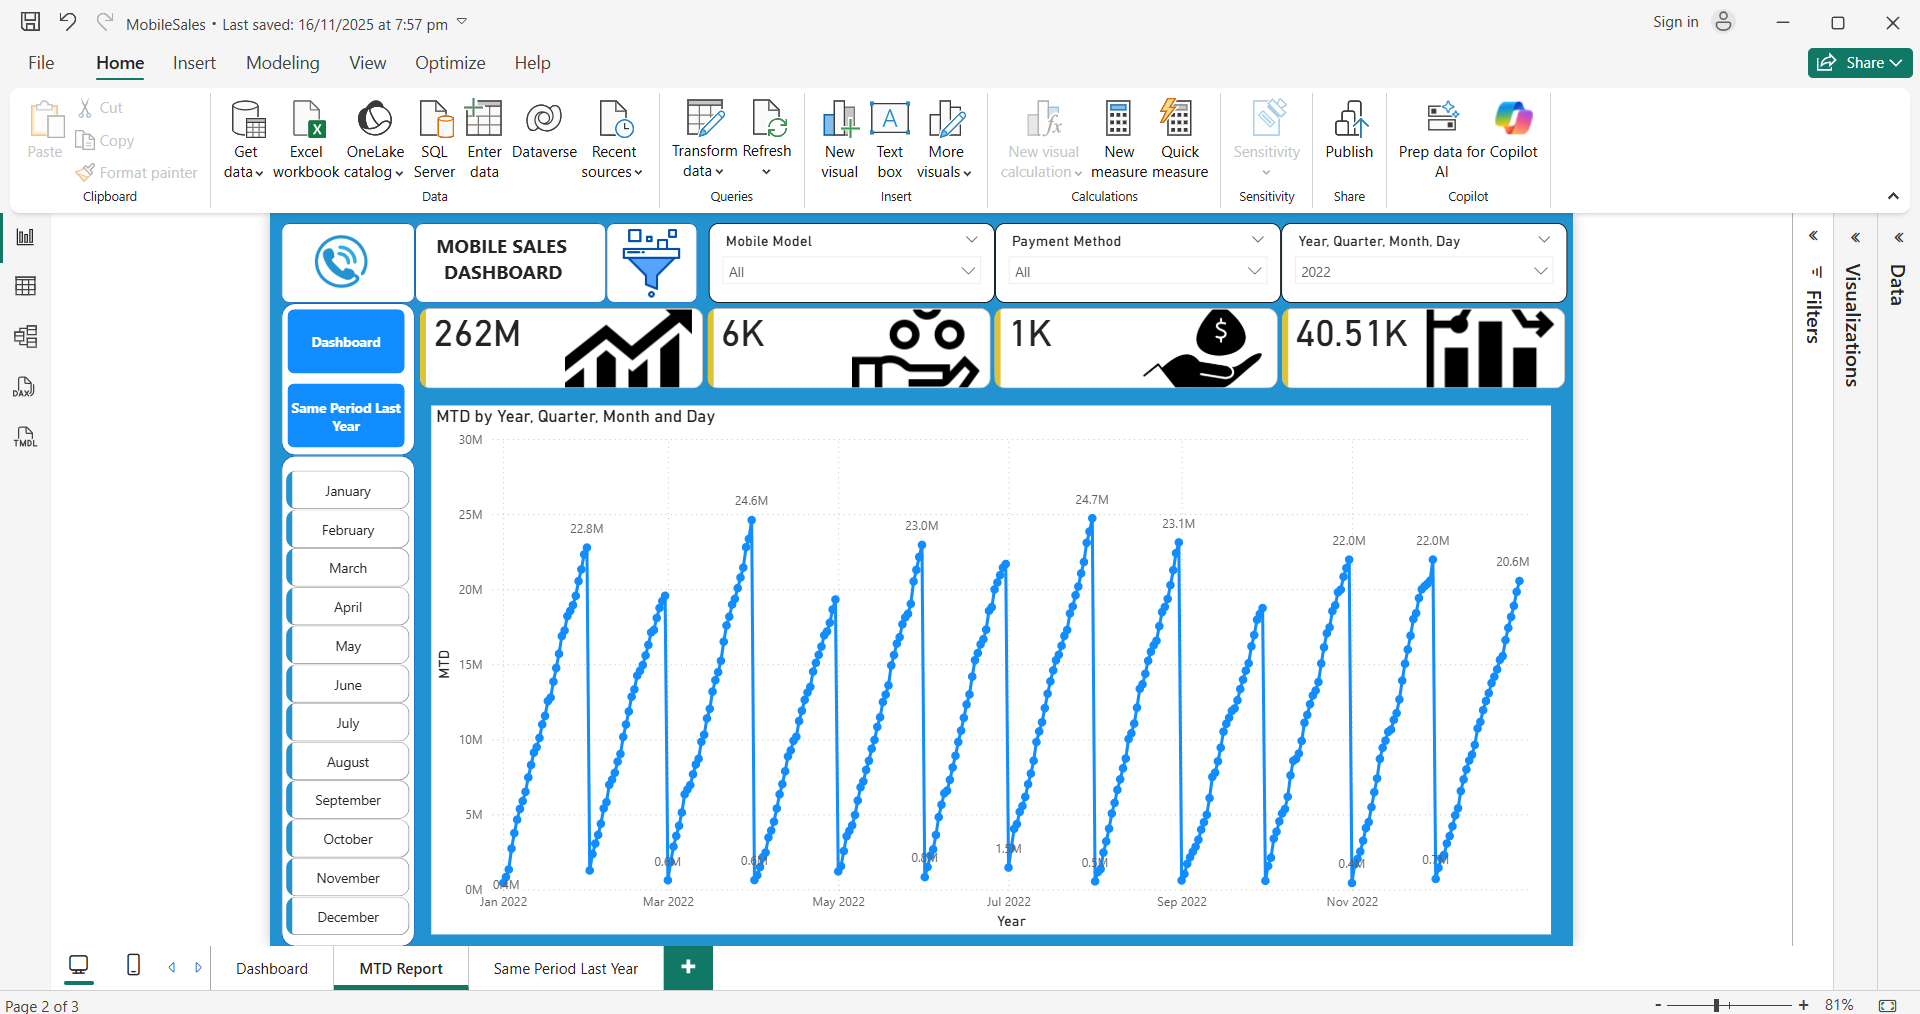

What the dashboard file says about the page in this screenshot:
{"tool":"powerbi","page":{"name":"MTD Report","canvas":[1280,720],"ordinal":1},"visuals":[{"type":"shape","box":[11,238,131.3,482.2],"z":0},{"type":"shape","box":[11,9.8,131.3,78.5],"z":1000},{"type":"image","box":[17.2,14.7,105.5,67.5],"z":2000},{"type":"shape","box":[11,88.3,131.3,149.7],"z":3000},{"type":"cardVisual","fields":{"Data":["Mobile_Sales_Data.Total_Sales","Mobile_Sales_Data.Total_Quantity","Mobile_Sales_Data.Transactions","Mobile_Sales_Data.Average_Price"]},"box":[142.3,88.3,1137.4,89.6],"z":4000},{"type":"slicer","fields":{"Values":["Mobile_Sales_Data.Mobile Model"]},"box":[430.7,9.8,281,78.5],"z":5000},{"type":"slicer","fields":{"Values":["Mobile_Sales_Data.Payment Method"]},"box":[711.7,9.8,281,78.5],"z":6000},{"type":"slicer","fields":{"Values":["Custom_Calender.Date.Variation.Date Hierarchy.Year","Custom_Calender.Date.Variation.Date Hierarchy.Quarter","Custom_Calender.Date.Variation.Date Hierarchy.Month","Custom_Calender.Date.Variation.Date Hierarchy.Day"]},"box":[992.6,9.8,281,78.5],"z":7000},{"type":"shape","box":[330.1,9.8,89.6,78.5],"z":8000},{"type":"image","box":[330.1,9.8,88.3,79.8],"z":9000},{"type":"shape","box":[142.3,9.8,187.7,78.5],"z":10000},{"type":"textbox","box":[158.3,14.7,141.1,67.5],"z":11000},{"type":"lineChart","fields":{"Y":["Mobile_Sales_Data.MTD"],"Category":["Custom_Calender.Date.Variation.Date Hierarchy.Year","Custom_Calender.Date.Variation.Date Hierarchy.Quarter","Custom_Calender.Date.Variation.Date Hierarchy.Month","Custom_Calender.Date.Variation.Date Hierarchy.Day"]},"box":[158.3,189,1099.4,519],"z":12000},{"type":"advancedSlicerVisual","fields":{"Values":["Custom_Calender.Date.Variation.Date Hierarchy.Month"]},"box":[11,247.9,131.3,472.4],"z":13000},{"type":"pageNavigator","box":[17.2,94.5,115.3,136.2],"z":13001}]}

Visuals, with their boxes on the page's 1280x720 design canvas (x1, y1, x2, y2). These are canvas units, not pixel positions in the 1920x1014 screenshot, which may show the page scaled, cropped or inside an application window:
shape: locate(11, 238, 142, 720)
shape: locate(11, 10, 142, 88)
image: locate(17, 15, 123, 82)
shape: locate(11, 88, 142, 238)
cardVisual - Mobile_Sales_Data.Total_Sales x Mobile_Sales_Data.Total_Quantity: locate(142, 88, 1280, 178)
slicer - Mobile_Sales_Data.Mobile Model: locate(431, 10, 712, 88)
slicer - Mobile_Sales_Data.Payment Method: locate(712, 10, 993, 88)
slicer - Custom_Calender.Date.Variation.Date Hierarchy.Year x Custom_Calender.Date.Variation.Date Hierarchy.Quarter: locate(993, 10, 1274, 88)
shape: locate(330, 10, 420, 88)
image: locate(330, 10, 418, 90)
shape: locate(142, 10, 330, 88)
textbox: locate(158, 15, 299, 82)
lineChart - Mobile_Sales_Data.MTD x Custom_Calender.Date.Variation.Date Hierarchy.Year: locate(158, 189, 1258, 708)
advancedSlicerVisual - Custom_Calender.Date.Variation.Date Hierarchy.Month: locate(11, 248, 142, 720)
pageNavigator: locate(17, 94, 132, 231)
